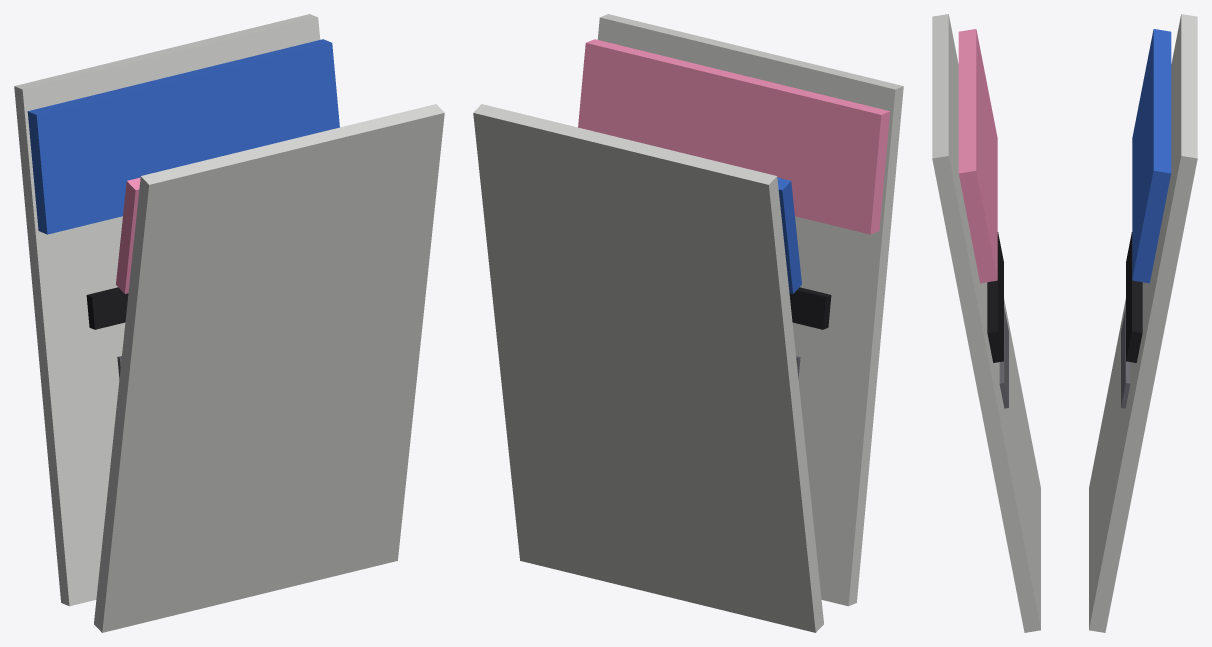
The model's file is p_sign.glb.
3 views of the same model, side by side, from view 1: azimuth 30°, elevation 25°; view 2: azimuth 150°, elevation 25°; view 3: azimuth 270°, elevation 25° (orthographic).
Visible parts, largest first — view 1: sign; view 2: sign; view 3: sign.
Boxes of the visible parts, <box> form: sign: <box>14,14,444,632</box>; sign: <box>473,14,903,632</box>; sign: <box>932,14,1197,632</box>.
Bounding box in the file's own units: 0.6 × 0.9408 × 0.4745.
